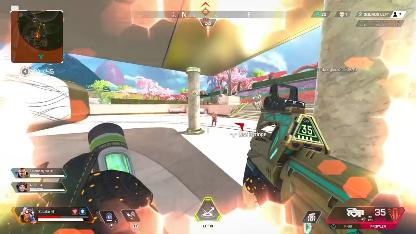Target: (252, 92, 260, 110), (211, 112, 217, 127)
